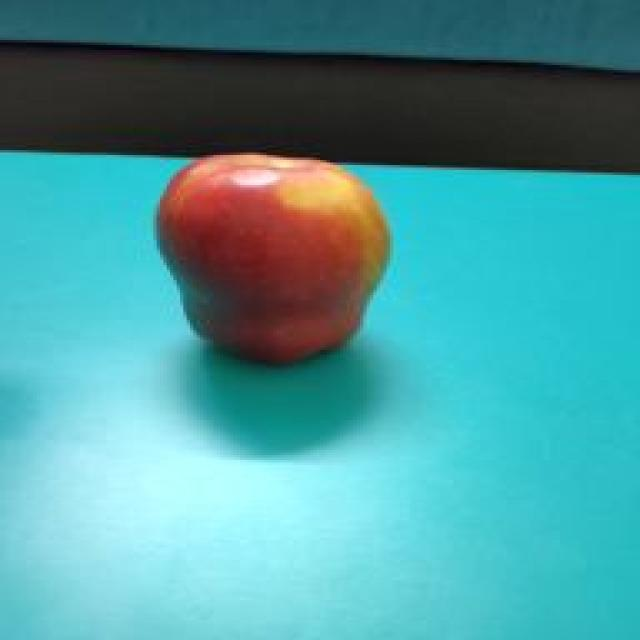Good_Apple: (153, 155, 393, 370)
